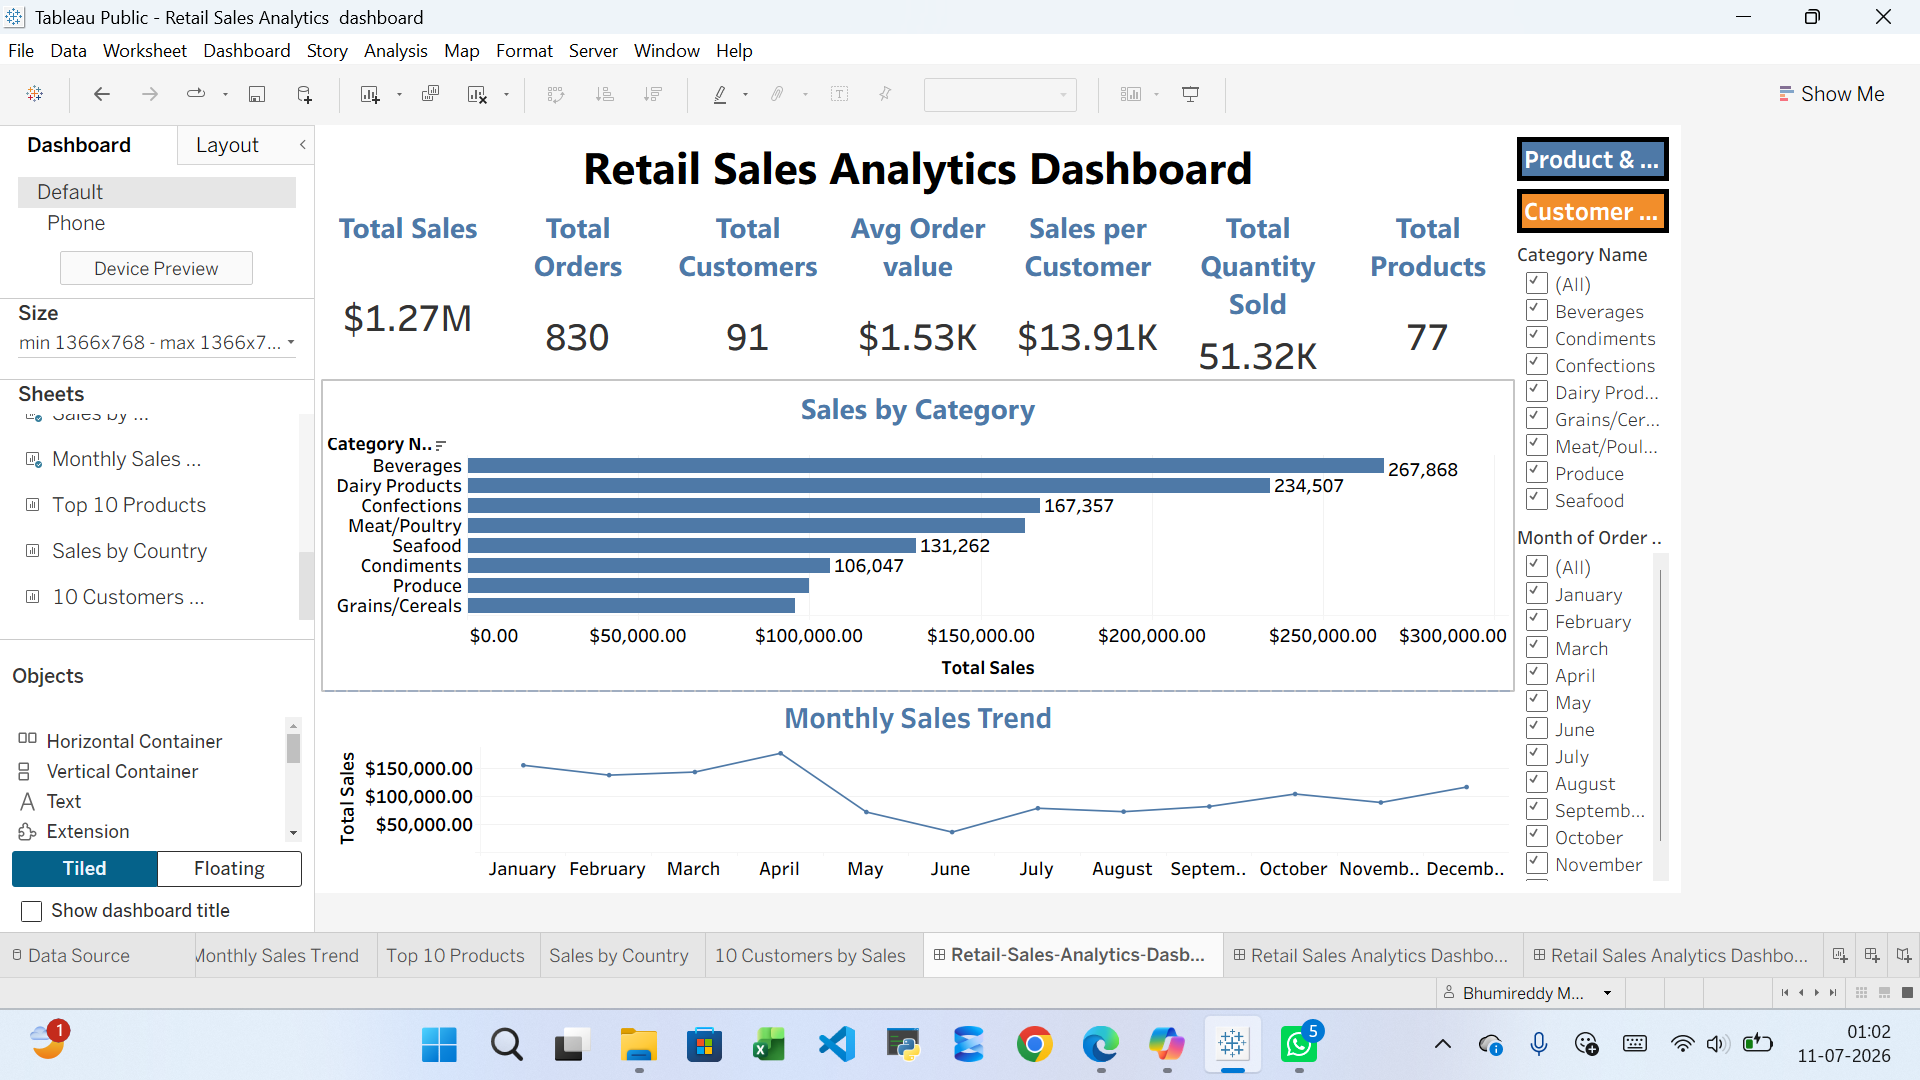

The dashboard page shown, as its layout file describes it:
{"tool":"tableau","page":{"name":"Retail-Sales-Analytics-Dasboard","canvas":[1366,768],"ordinal":2},"visuals":[{"type":"text","box":[8,8,1190,67]},{"type":"dashboard-object","box":[1198,8,160,52]},{"type":"dashboard-object","box":[1198,60,160,52]},{"type":"worksheet","title":"Total Sales","mark":"Automatic","box":[8,75,170,181]},{"type":"worksheet","title":"Total Orders","mark":"Automatic","box":[178,75,170,181]},{"type":"worksheet","title":"Total Customers","mark":"Automatic","box":[348,75,170,181]},{"type":"worksheet","title":"Average Order Value","mark":"Automatic","box":[518,75,170,181]},{"type":"worksheet","title":"Sales per Customer","mark":"Automatic","box":[688,75,170,181]},{"type":"worksheet","title":"Total Quantity Sold","mark":"Automatic","box":[858,75,170,181]},{"type":"worksheet","title":"Total Products","mark":"Automatic","box":[1028,75,170,181]},{"type":"filter","title":"Sales by Category","param":"[odata.06dvpco1srk3af146tckr10jipwa].[none:CategoryName:nk]","box":[1198,112,160,283]},{"type":"worksheet","title":"Sales by Category","mark":"Automatic","rows":["CategoryName"],"cols":["Calculation_2653142644731904"],"box":[8,256,1190,309]},{"type":"filter","title":"Monthly Sales Trend","param":"[odata.06dvpco1srk3af146tckr10jipwa].[mn:OrderDate:ok]","box":[1198,395,160,365]},{"type":"worksheet","title":"Monthly Sales Trend","mark":"Line","rows":["Calculation_2653142644731904"],"cols":["OrderDate"],"box":[8,565,1190,195]}]}

Visuals, with their boxes on the page's 1366x768 design canvas (x1, y1, x2, y2). These are canvas units, not pixel positions in the 1920x1080 screenshot, which may show the page scaled, cropped or inside an application window:
text: pyautogui.locateOnScreen(8, 8, 1198, 75)
dashboard-object: pyautogui.locateOnScreen(1198, 8, 1358, 60)
dashboard-object: pyautogui.locateOnScreen(1198, 60, 1358, 112)
"Total Sales" worksheet: pyautogui.locateOnScreen(8, 75, 178, 256)
"Total Orders" worksheet: pyautogui.locateOnScreen(178, 75, 348, 256)
"Total Customers" worksheet: pyautogui.locateOnScreen(348, 75, 518, 256)
"Average Order Value" worksheet: pyautogui.locateOnScreen(518, 75, 688, 256)
"Sales per Customer" worksheet: pyautogui.locateOnScreen(688, 75, 858, 256)
"Total Quantity Sold" worksheet: pyautogui.locateOnScreen(858, 75, 1028, 256)
"Total Products" worksheet: pyautogui.locateOnScreen(1028, 75, 1198, 256)
"Sales by Category" filter: pyautogui.locateOnScreen(1198, 112, 1358, 395)
"Sales by Category" worksheet: pyautogui.locateOnScreen(8, 256, 1198, 565)
"Monthly Sales Trend" filter: pyautogui.locateOnScreen(1198, 395, 1358, 760)
"Monthly Sales Trend" worksheet (Line marks): pyautogui.locateOnScreen(8, 565, 1198, 760)
